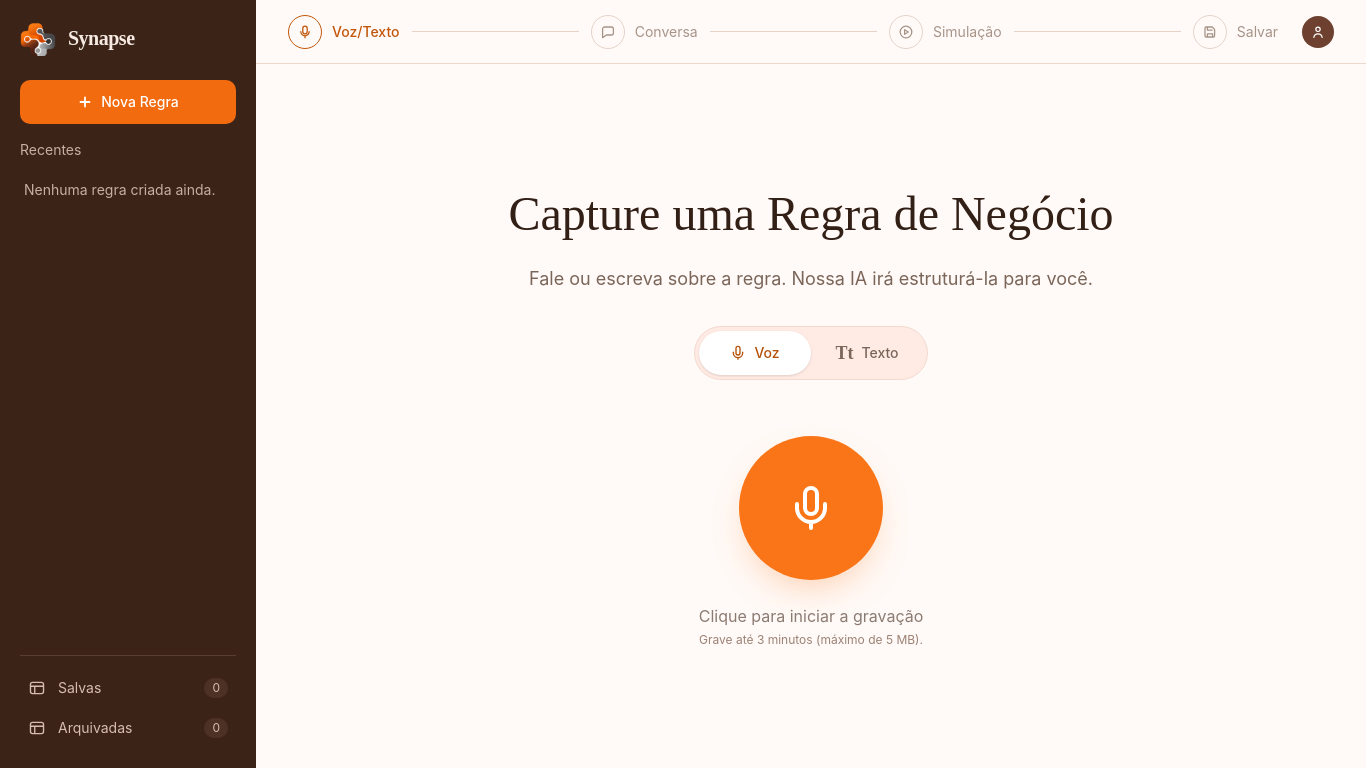
Test: preserva o texto quando o envio falha e permite tentar novamente
The image size is (1366, 768).
Click the button "Tt Texto": (867, 353) [811,331,923,375]
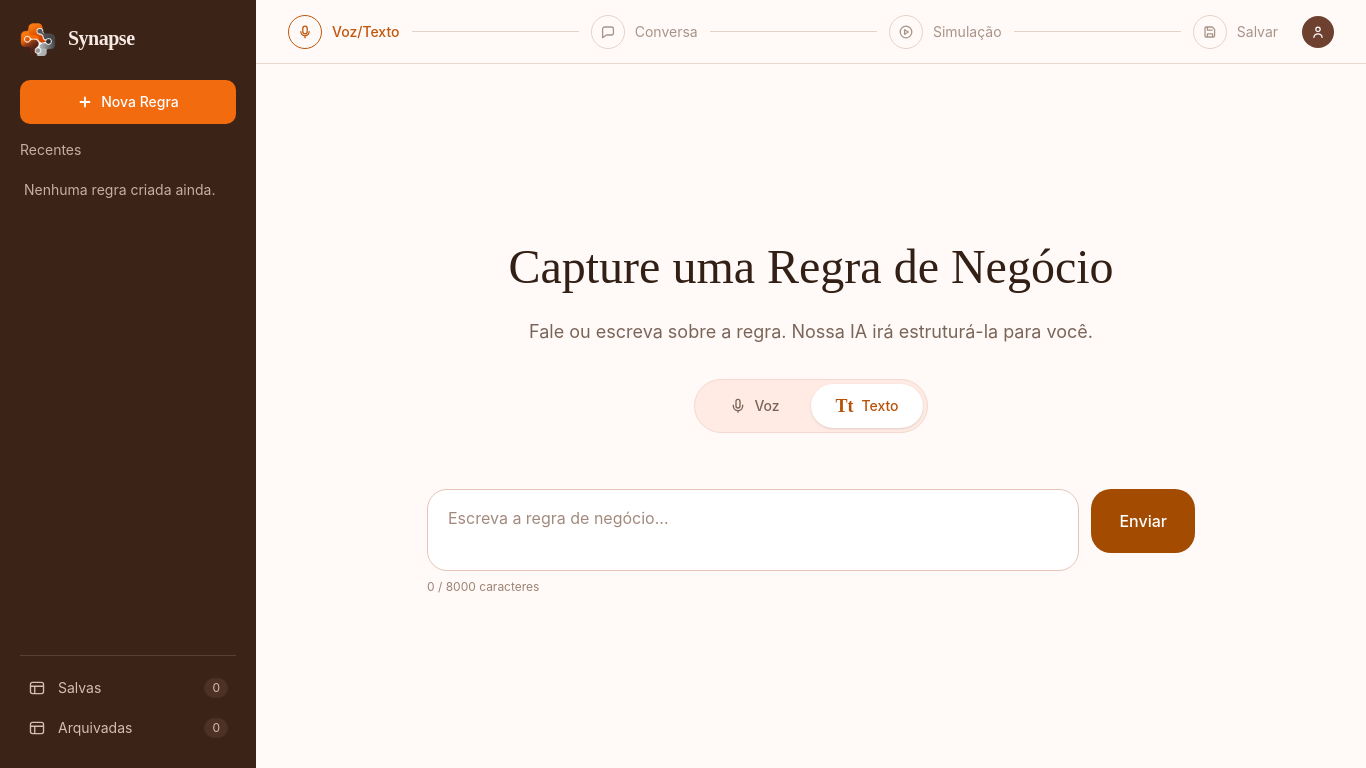
In the text box with placeholder "Escreva a regra de negócio...": (753, 530) [427,489,1080,571], type "minha regra"
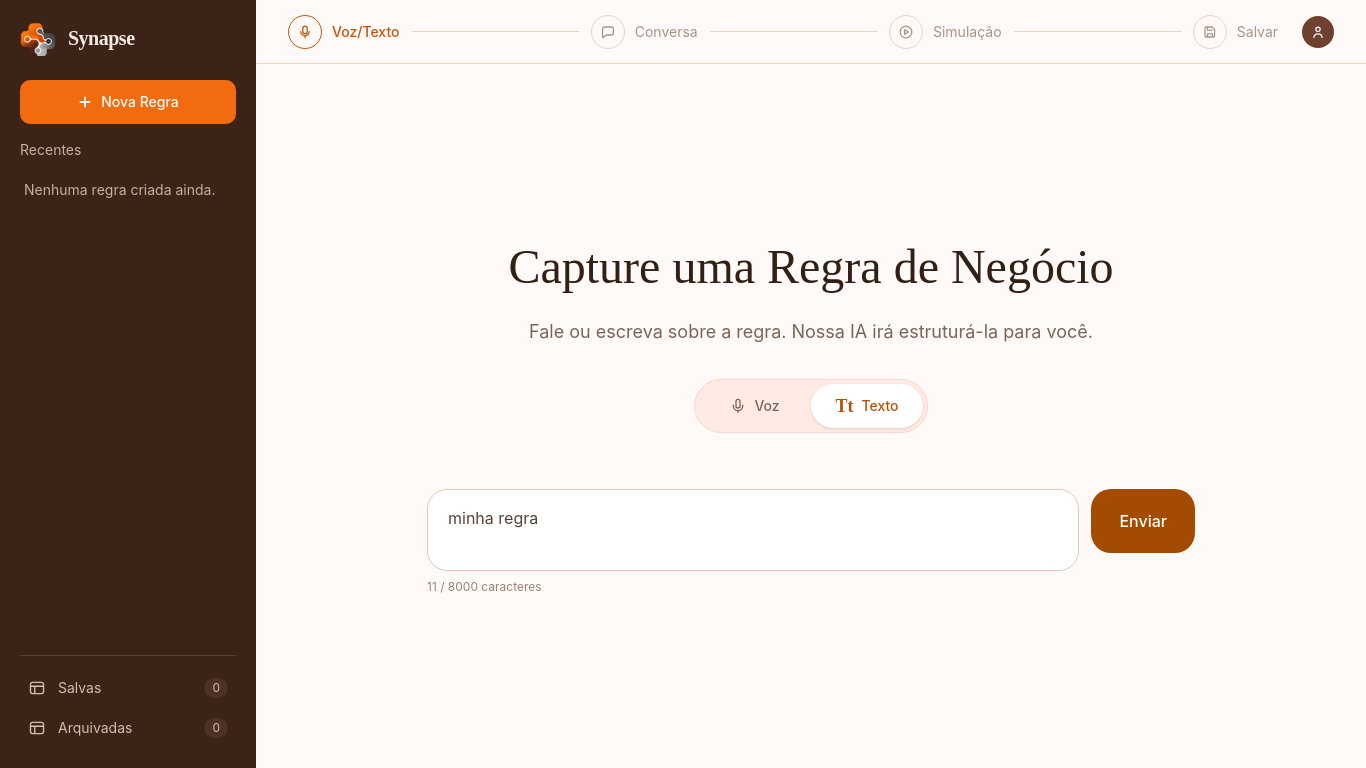
Click the button "Enviar": (1143, 521) [1092,489,1195,553]
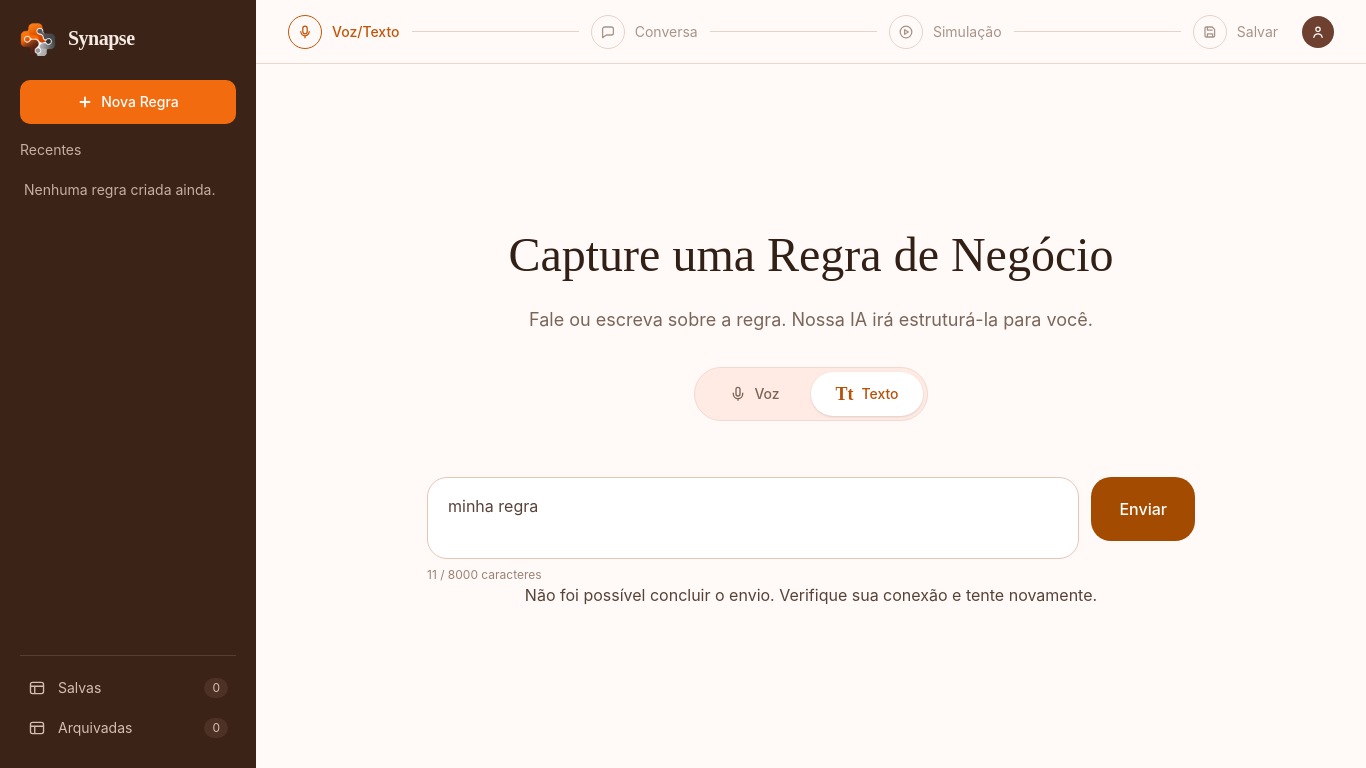
Expected: the message "Não foi possível concluir o envio. Verifique sua conexão e tente novamente." is shown, [525,585,1097,605]
